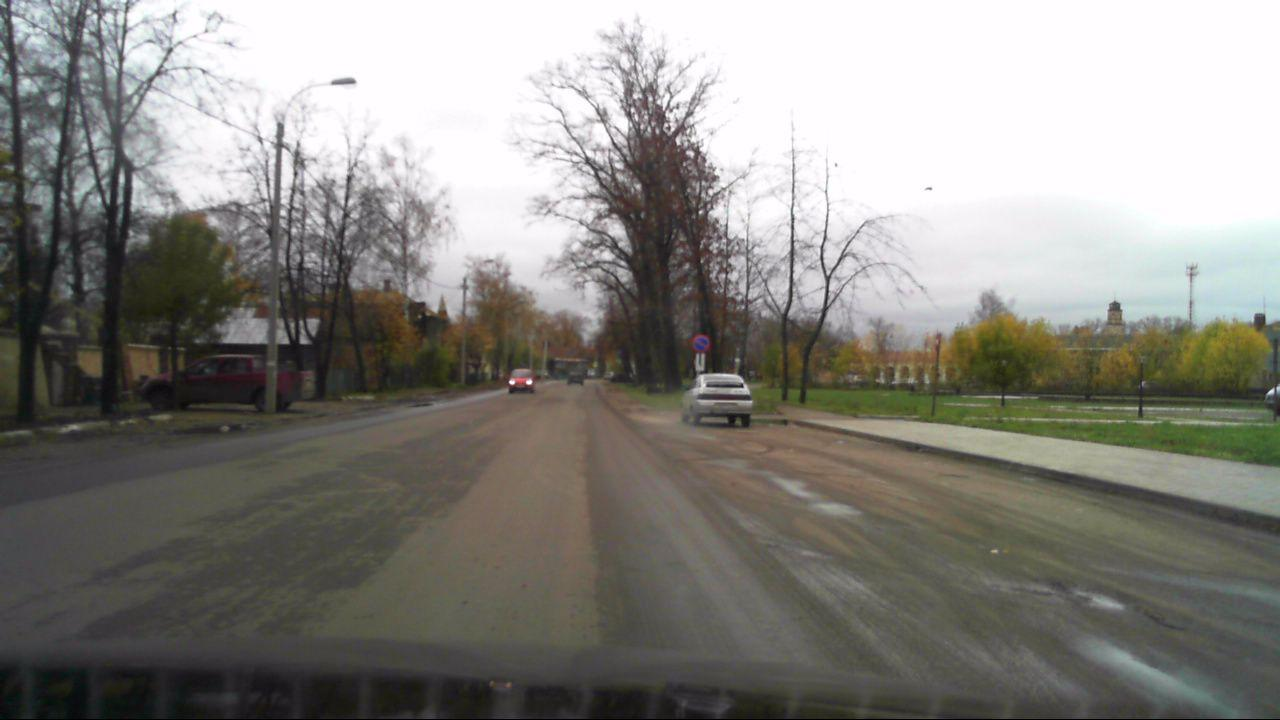road_sign: (691, 335, 710, 352), (695, 354, 705, 371)
